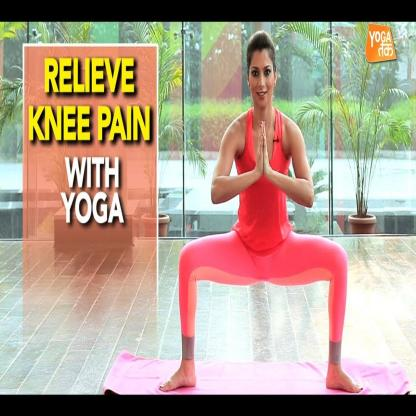godness: (156, 24, 366, 396)
